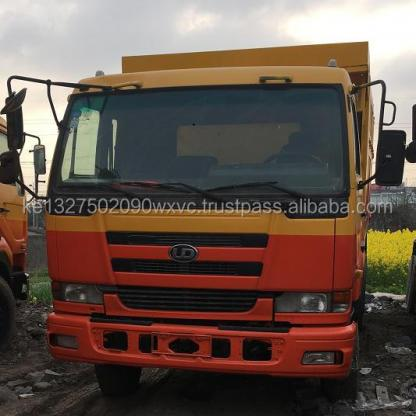dump_truck: (27, 25, 393, 391)
